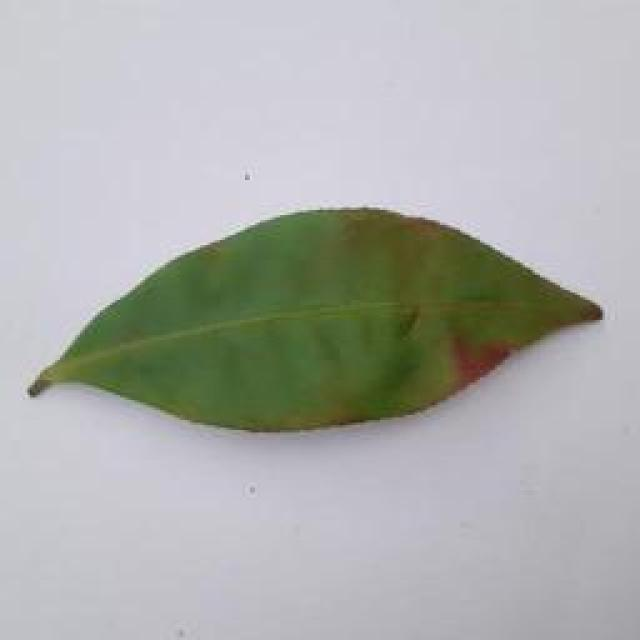Red Leaf Spot: (10, 192, 640, 442)
